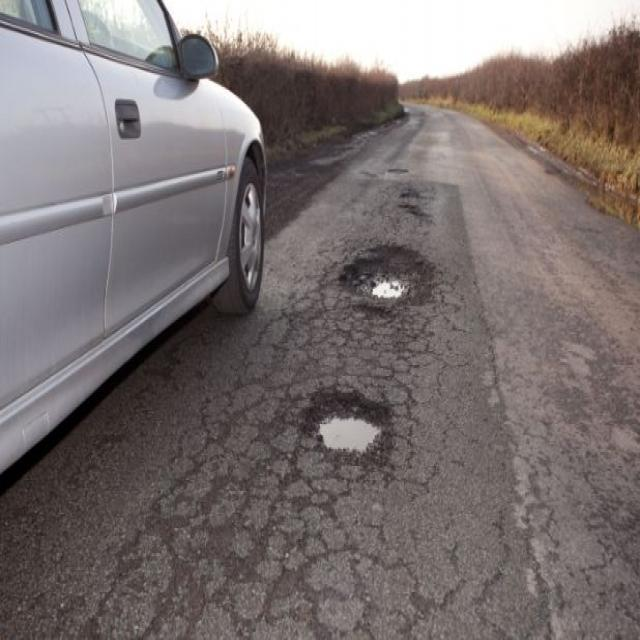pothole: (298, 378, 390, 462), (336, 238, 438, 304)
